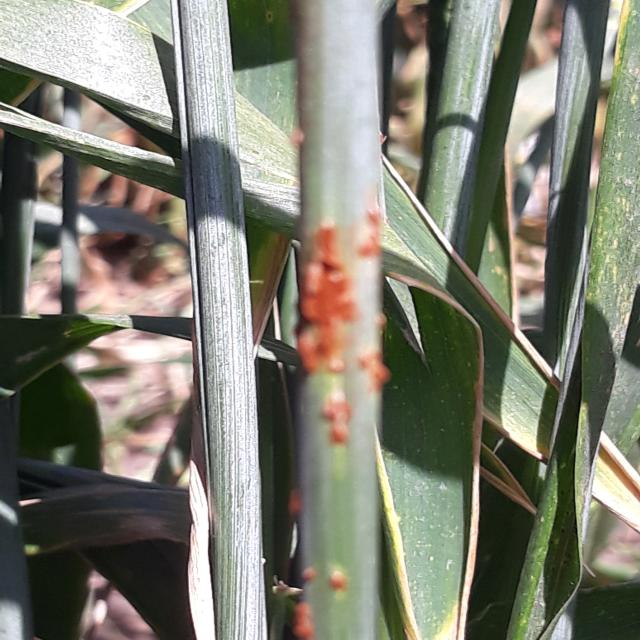black_stem_rust: (242, 0, 459, 640)
